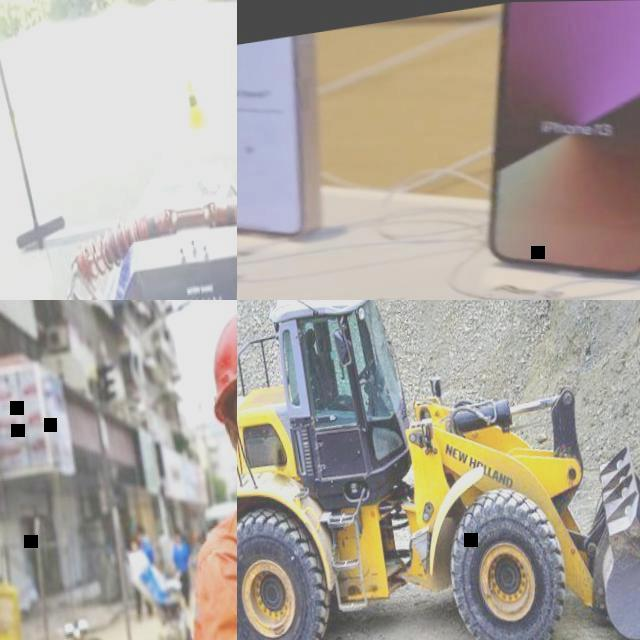helmet: (200, 300, 237, 418)
machinery: (237, 300, 640, 640)
no_helmet: (136, 524, 146, 533), (172, 529, 180, 536), (130, 535, 138, 542)
no_vest: (169, 527, 195, 604), (158, 536, 175, 564), (173, 545, 189, 570), (128, 549, 144, 573), (143, 540, 154, 562)
person: (130, 300, 237, 640), (123, 533, 154, 620), (153, 524, 178, 576), (136, 524, 156, 568)
safety_cone: (167, 66, 212, 126)
vehicle: (0, 0, 237, 300)
